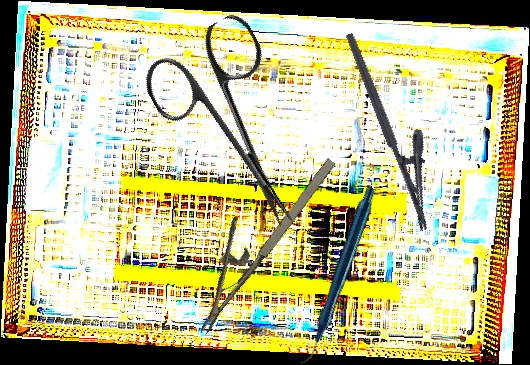Handpiece: (239, 185, 433, 365)
Iris Scissors: (134, 9, 342, 252)
Needle Holder: (165, 135, 341, 336), (343, 21, 457, 233)
